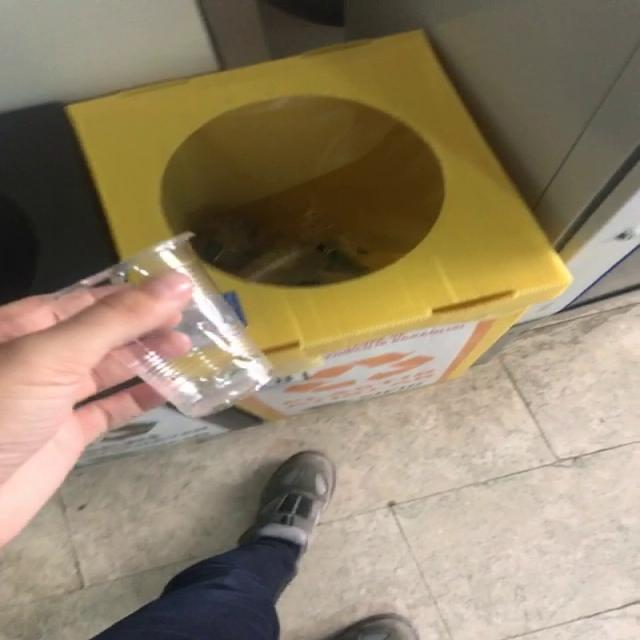plastic: (56, 232, 272, 418)
